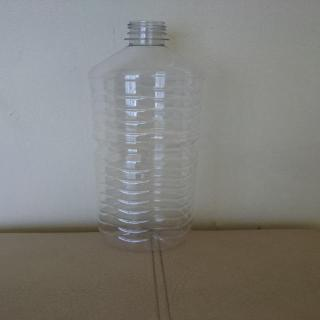Plastic-bottle: (83, 17, 209, 255)
